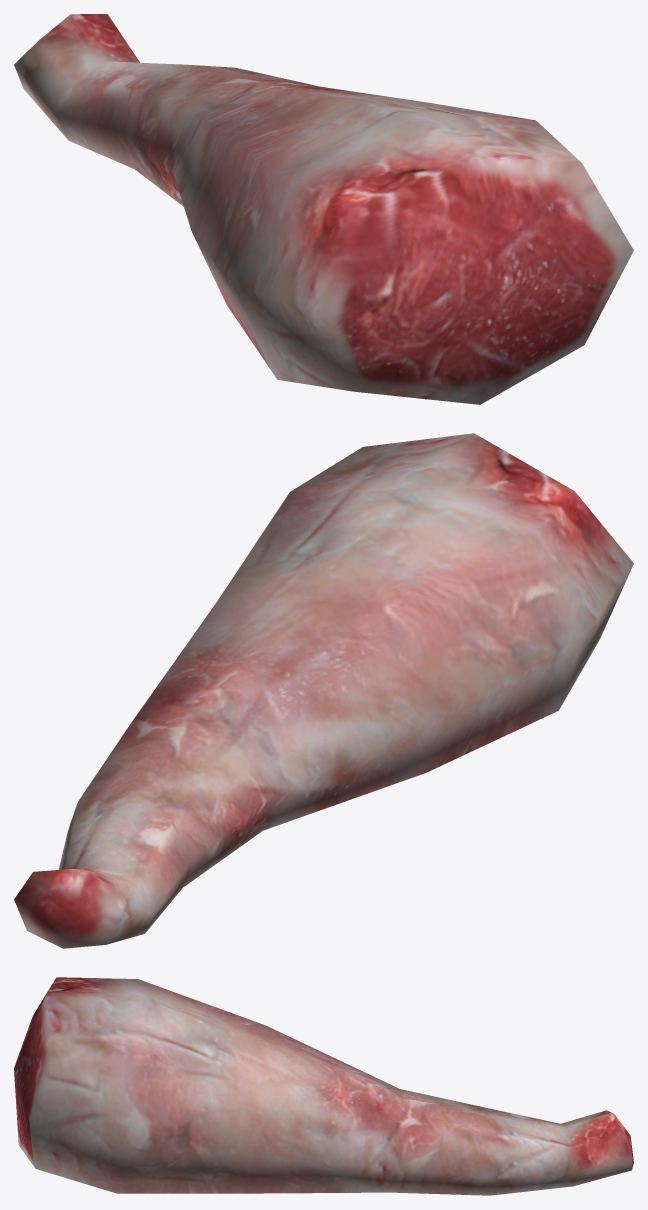
The model's file is LambLeg.fbx.
3 views of the same model, one above another, from view 1: azimuth 30°, elevation 25°; view 2: azimuth 150°, elevation 25°; view 3: azimuth 270°, elevation 25° (orthographic). The views are drawn at different scales.
Visible parts, largest first — view 1: LambLeg; view 2: LambLeg; view 3: LambLeg.
Part boxes in pixels (x1=…): LambLeg: x1=14, y1=14, x2=633, y2=404; LambLeg: x1=14, y1=433, x2=633, y2=948; LambLeg: x1=14, y1=977, x2=633, y2=1195.
Bounding box in the file's own units: 0.3355 × 0.2447 × 0.766.
